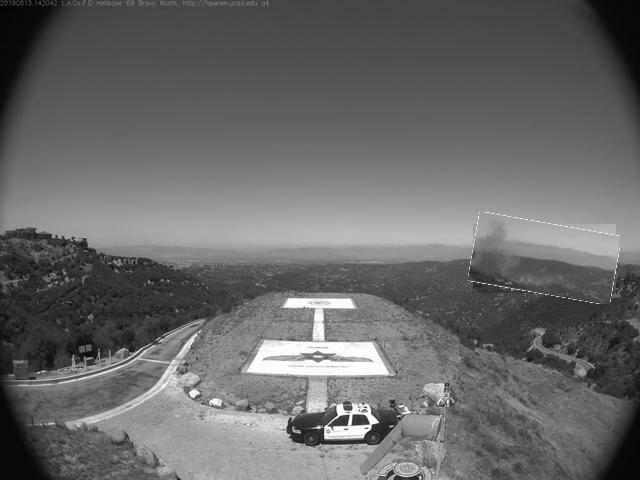smoke: (472, 219, 620, 301)
